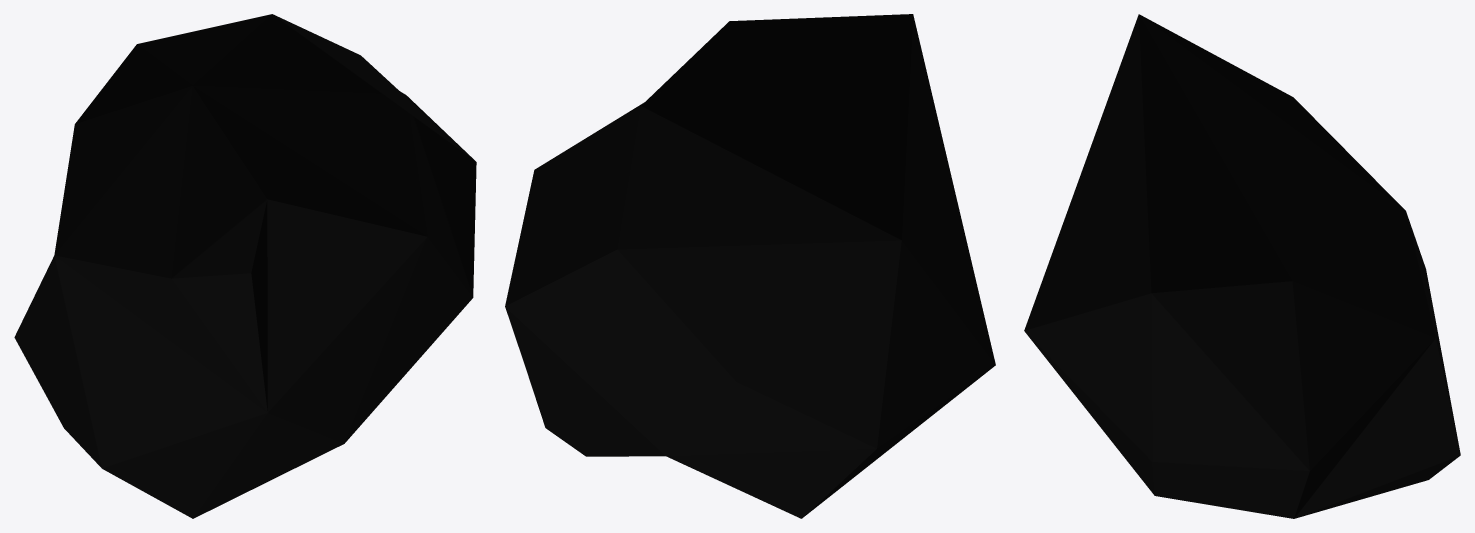
The picture shows the model from 3 angles, left to right: view 1: azimuth 30°, elevation 25°; view 2: azimuth 150°, elevation 25°; view 3: azimuth 270°, elevation 25°; orthographic projection. The views are drawn at different scales.
Bounding box in the file's own units: 0.5313 × 0.5529 × 0.4919.
Materials: 1 (1 with a texture image).
